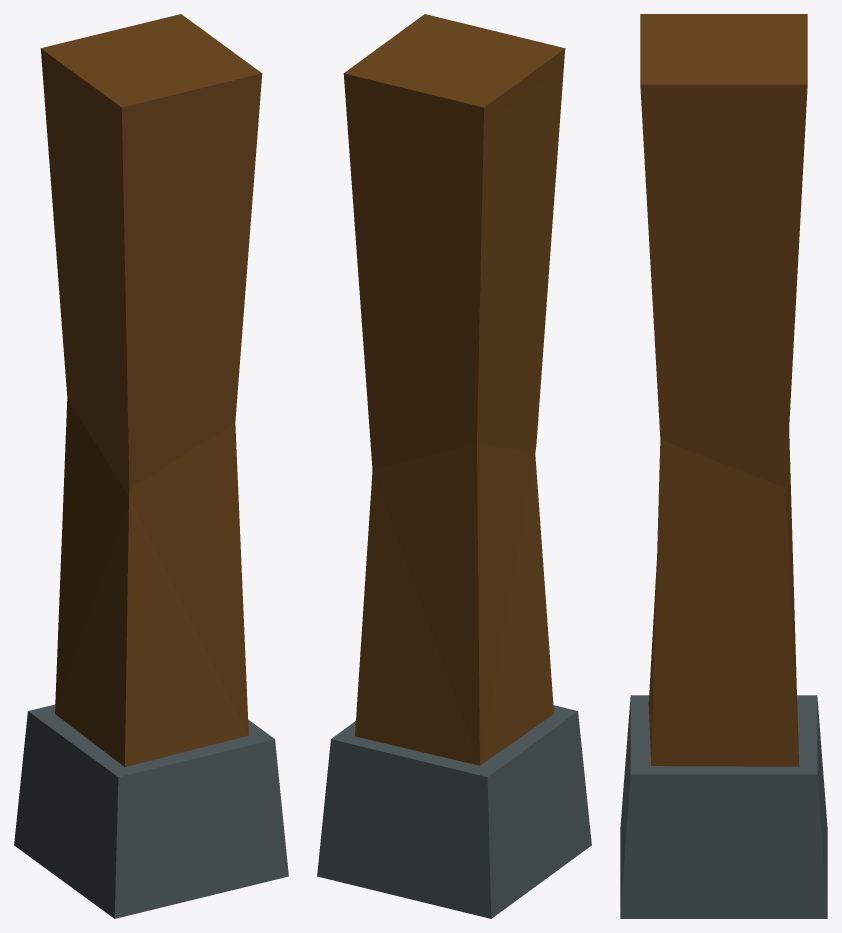
File: Wall_07.fbx
The picture shows the model from 3 angles, left to right: view 1: azimuth 30°, elevation 25°; view 2: azimuth 150°, elevation 25°; view 3: azimuth 270°, elevation 25°; orthographic projection. The views are drawn at different scales.
Parts seen in each view (by area): view 1: Wall_07; view 2: Wall_07; view 3: Wall_07.
Part boxes in pixels (x1,y1,x2,y2): Wall_07: [14, 14, 288, 918]; Wall_07: [317, 14, 591, 918]; Wall_07: [620, 14, 827, 918].
Size of the model in its own units: 64.76 by 284 by 64.76.
